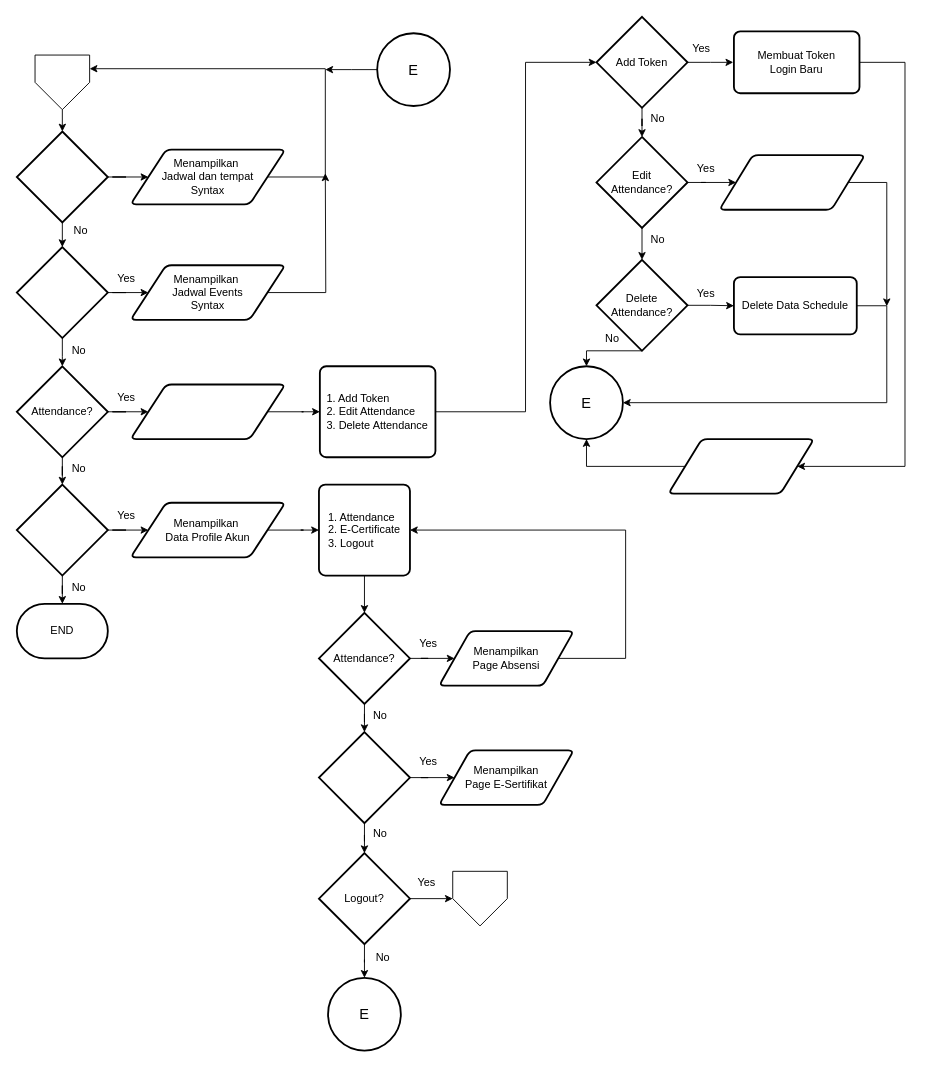
Image size: 928x1067. Some labels were removed from this diagram. The centre of each missing label's shape, as x and y in pixels:
"E-Certificate?" belongs at pixel 364 777.
"Events?" belongs at pixel 61 292.
"Menampilkan Data Absensi Syntax" belongs at pixel 207 411.
"Menampilkan Token Baru" belongs at pixel 740 466.
"Page 4" belongs at pixel 62 82.
"Page Logout" belongs at pixel 479 898.
"Page untuk Mengedit Absensi" belongs at pixel 791 182.
"Profile?" belongs at pixel 61 529.
"Schedule?" belongs at pixel 61 176.
